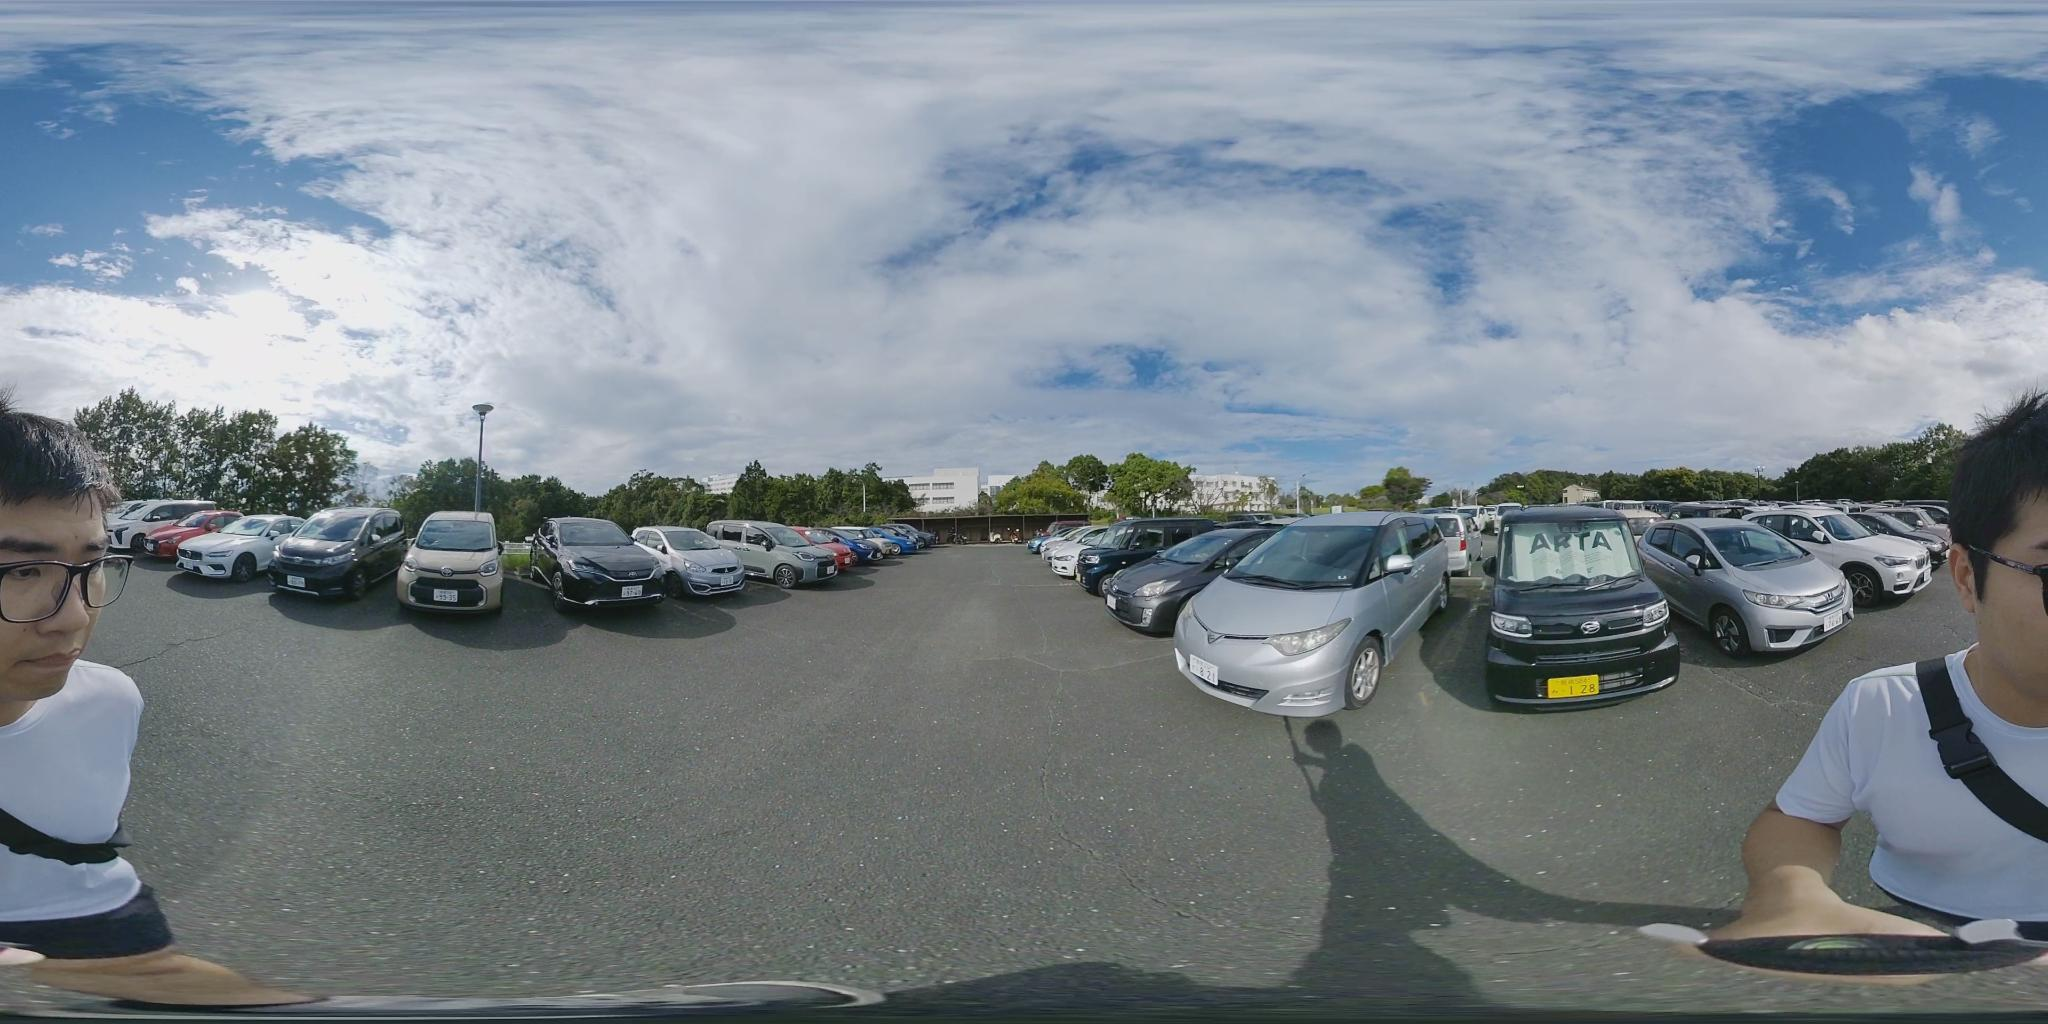car: (1168, 513, 1456, 713), (1448, 505, 1681, 711), (1631, 519, 1859, 658), (1738, 509, 1950, 603), (1098, 528, 1277, 632), (269, 509, 414, 601), (1070, 520, 1234, 593), (536, 519, 661, 609), (400, 509, 498, 614), (168, 515, 320, 580), (703, 520, 849, 586), (637, 526, 765, 596), (104, 503, 248, 558), (840, 529, 922, 559)
